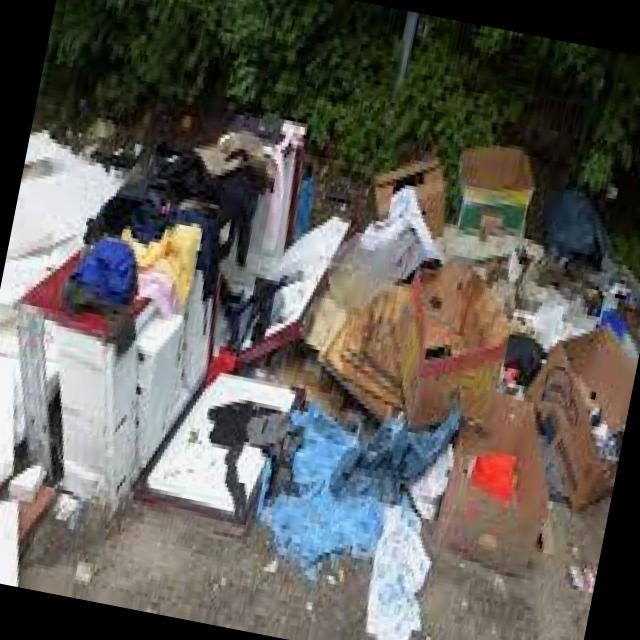garbage: (0, 61, 640, 637)
